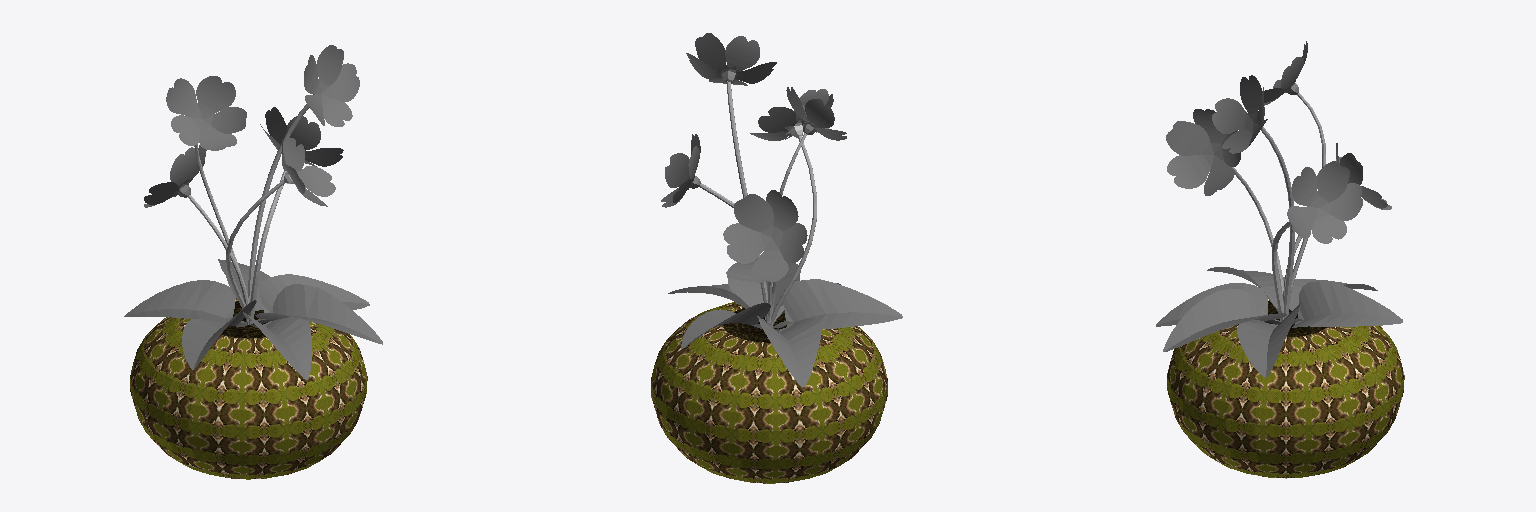
3 views of the same model, side by side, from view 1: azimuth 30°, elevation 25°; view 2: azimuth 150°, elevation 25°; view 3: azimuth 270°, elevation 25° (orthographic).
Parts seen in each view (by area): view 1: plant, vase; view 2: vase, plant; view 3: vase, plant.
Part boxes in pixels (bbox=[...]): plant: bbox=[124, 45, 382, 379]; vase: bbox=[130, 298, 367, 479]; vase: bbox=[651, 302, 887, 483]; plant: bbox=[661, 33, 902, 387]; vase: bbox=[1167, 299, 1404, 478]; plant: bbox=[1156, 41, 1402, 377].
Bounding box in the file's own units: 0.5813 × 1.04 × 0.5848.
7 materials, 2 textured.